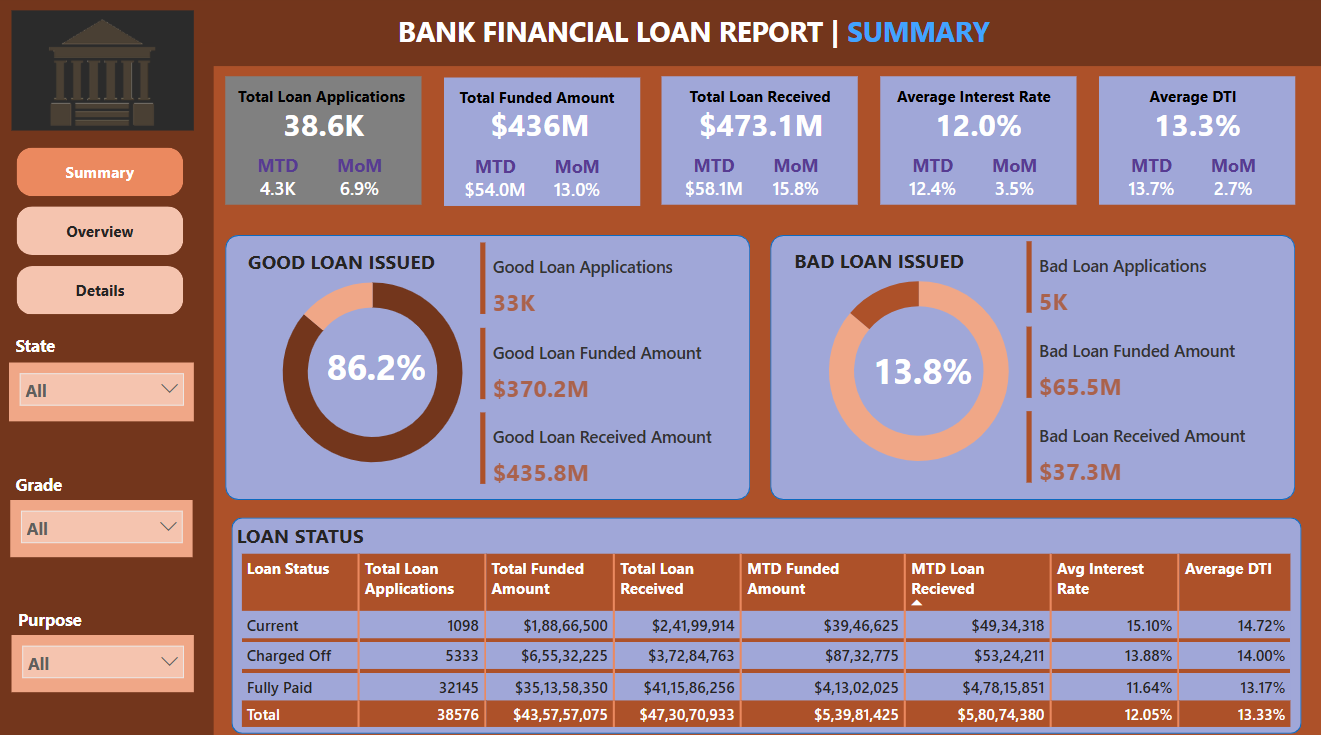

The dashboard page shown, as its layout file describes it:
{"tool":"powerbi","page":{"name":"Summary","canvas":[1280,720],"ordinal":0},"visuals":[{"type":"shape","box":[0,0,1280.3,68.6],"z":0},{"type":"shape","box":[218.4,78.4,189.4,124.3],"z":0,"group":"g1"},{"type":"shape","box":[640.1,78.4,189.4,124.3],"z":0,"group":"g3"},{"type":"shape","box":[850.9,78.4,189.4,124.3],"z":0,"group":"g4"},{"type":"shape","box":[1061.7,78.4,189.4,124.3],"z":0,"group":"g5"},{"type":"shape","box":[429.2,79.6,189.4,124.3],"z":0,"group":"g2"},{"type":"shape","box":[0,45.8,207.5,674.4],"z":1000},{"type":"card","fields":{"Values":["financial_loan.Total Loan Received"]},"box":[666.5,92.4,139.9,65.1],"z":1000,"group":"g3"},{"type":"card","fields":{"Values":["financial_loan.Total Loan Applications"]},"box":[263,96.5,101.3,57.9],"z":1000,"group":"g1"},{"type":"card","fields":{"Values":["financial_loan.Avg Interest Rate"]},"box":[895.2,96.5,101.3,57.9],"z":1000,"group":"g4"},{"type":"card","fields":{"Values":["financial_loan.Average DTI"]},"box":[1106.3,96.5,101.3,57.9],"z":1000,"group":"g5"},{"type":"card","fields":{"Values":["financial_loan.Total Funded Amount"]},"box":[459.1,96.9,125.5,57.9],"z":1000,"group":"g2"},{"type":"textbox","box":[207.5,82,211.1,43.4],"z":2000,"group":"g1"},{"type":"textbox","box":[628.6,82,211.1,43.4],"z":2000,"group":"g3"},{"type":"textbox","box":[839.7,82,211.1,43.4],"z":2000,"group":"g4"},{"type":"textbox","box":[1050.8,82,211.1,43.4],"z":2000,"group":"g5"},{"type":"textbox","box":[417.4,83.2,211.1,43.4],"z":2000,"group":"g2"},{"type":"card","fields":{"Values":["financial_loan.Bad Loan Percentage"]},"box":[828.8,330.6,125.5,57.9],"z":2000},{"type":"textbox","box":[380.1,12.3,591.4,65.9],"z":3000},{"type":"card","title":"MTD ","fields":{"Values":["financial_loan.MTD Loan Applications"]},"box":[224.4,152,89.3,50.7],"z":3000,"group":"g1"},{"type":"card","title":"MTD ","fields":{"Values":["financial_loan.MTD Loan Recieved"]},"box":[645.5,152,89.3,50.7],"z":3000,"group":"g3"},{"type":"card","title":"MTD ","fields":{"Values":["financial_loan.MTD Avg Interest Rate"]},"box":[856.6,152,89.3,50.7],"z":3000,"group":"g4"},{"type":"card","title":"MTD ","fields":{"Values":["financial_loan.MTD Avg DTI"]},"box":[1067.7,152,89.3,50.7],"z":3000,"group":"g5"},{"type":"card","title":"MTD ","fields":{"Values":["financial_loan.MTD Funded Amount"]},"box":[434.3,153.2,89.3,50.7],"z":3000,"group":"g2"},{"type":"group","id":"g1","title":"Group 1","box":[207.5,78.4,211.1,124.3],"z":4000},{"type":"card","title":"MoM ","fields":{"Values":["financial_loan.MoM Loan Applications"]},"box":[304,152,88.1,50.7],"z":4000,"group":"g1"},{"type":"card","title":"MoM ","fields":{"Values":["financial_loan.MoM Loan Received"]},"box":[725.1,152,88.1,50.7],"z":4000,"group":"g3"},{"type":"card","title":"MoM ","fields":{"Values":["financial_loan.MoM Avg Int rate"]},"box":[936.2,152,88.1,50.7],"z":4000,"group":"g4"},{"type":"card","title":"MoM ","fields":{"Values":["financial_loan.MoM Avg DTI"]},"box":[1147.3,152,88.1,50.7],"z":4000,"group":"g5"},{"type":"card","title":"MoM ","fields":{"Values":["financial_loan.MoM Funded Amount"]},"box":[513.9,153.2,88.1,50.7],"z":4000,"group":"g2"},{"type":"group","id":"g2","title":"Group 1","box":[417.4,79.6,211.1,124.3],"z":5000},{"type":"group","id":"g3","title":"Group 1","box":[628.6,78.4,211.1,124.3],"z":6000},{"type":"shape","box":[744.4,231.6,506.7,255.8],"z":7000},{"type":"shape","box":[218.4,231.6,506.7,255.8],"z":8000},{"type":"card","fields":{"Values":["financial_loan.Good Loan Percentage"]},"box":[294.4,326.9,139.9,65.1],"z":9000},{"type":"group","id":"g4","title":"Group 1","box":[839.7,78.4,211.1,124.3],"z":10000},{"type":"group","id":"g5","title":"Group 1","box":[1050.8,78.4,211.1,124.3],"z":11000},{"type":"donutChart","fields":{"Category":["financial_loan.Good vs Bad Loan"],"Y":["financial_loan.Total Loan Applications"]},"box":[224.4,250.9,272.7,226.8],"z":12000},{"type":"textbox","box":[235.3,240.1,199.1,37.4],"z":13000},{"type":"cardVisual","fields":{"Data":["financial_loan.Good Loan Applications","financial_loan.Good Loan Funded Amount","financial_loan.Good Loan Received Amount"]},"box":[459.7,234,246.1,243.7],"z":14000},{"type":"donutChart","fields":{"Category":["financial_loan.Good vs Bad Loan"],"Y":["financial_loan.Total Loan Applications"]},"box":[751.7,250.3,272.7,226.8],"z":15000},{"type":"textbox","box":[762.6,239.5,199.1,37.4],"z":16000},{"type":"cardVisual","fields":{"Data":["financial_loan.Bad Loan Applications","financial_loan.Bad Loan Funded Amount","financial_loan.Bad Loan Received Amount"]},"box":[987,233.4,246.1,243.7],"z":17000},{"type":"card","fields":{"Values":["financial_loan.Bad Loan Percentage"]},"box":[821.6,330.6,139.9,65.1],"z":18000},{"type":"shape","box":[224.4,504.3,1032.7,208.7],"z":19000},{"type":"tableEx","fields":{"Values":["financial_loan.loan_status","financial_loan.Total Loan Applications","financial_loan.Total Funded Amount","financial_loan.Total Loan Received","financial_loan.MTD Funded Amount","financial_loan.MTD Loan Recieved","financial_loan.Avg Interest Rate","financial_loan.Average DTI"]},"box":[228,534.5,1033.9,185.8],"z":20000},{"type":"textbox","box":[224.4,504.3,141.2,45.8],"z":21000},{"type":"slicer","fields":{"Values":["financial_loan.address_state"]},"box":[9.7,354.7,178.6,56.7],"z":22000},{"type":"textbox","box":[10.9,322.1,112.2,32.6],"z":23000},{"type":"slicer","fields":{"Values":["financial_loan.grade"]},"box":[10.9,487.4,176.1,55.5],"z":24000},{"type":"textbox","box":[10.9,456,86.9,31.4],"z":25000},{"type":"slicer","fields":{"Values":["financial_loan.purpose"]},"box":[12.1,617.7,176.1,55.5],"z":26000},{"type":"textbox","box":[13.3,586.3,86.9,31.4],"z":27000},{"type":"image","box":[7.2,3.6,185.8,138.7],"z":27001},{"type":"pageNavigator","box":[16.9,147,161.7,162.9],"z":27002}]}

Visuals, with their boxes in screenshot pixels (x1, y1, x2, y2), scaled from the page's 1280x720 canvas onto the 1321x735 screenshot:
shape: region(0, 0, 1320, 70)
shape: region(225, 80, 421, 207)
shape: region(661, 80, 856, 207)
shape: region(878, 80, 1074, 207)
shape: region(1096, 80, 1291, 207)
shape: region(443, 81, 638, 208)
shape: region(0, 47, 214, 734)
card - financial_loan.Total Loan Received: region(688, 94, 832, 161)
card - financial_loan.Total Loan Applications: region(271, 99, 376, 158)
card - financial_loan.Avg Interest Rate: region(924, 99, 1028, 158)
card - financial_loan.Average DTI: region(1142, 99, 1246, 158)
card - financial_loan.Total Funded Amount: region(474, 99, 603, 158)
textbox: region(214, 84, 432, 128)
textbox: region(649, 84, 867, 128)
textbox: region(867, 84, 1084, 128)
textbox: region(1084, 84, 1302, 128)
textbox: region(431, 85, 649, 129)
card - financial_loan.Bad Loan Percentage: region(855, 337, 985, 397)
textbox: region(392, 13, 1003, 80)
"MTD " card: region(232, 155, 324, 207)
"MTD " card: region(666, 155, 758, 207)
"MTD " card: region(884, 155, 976, 207)
"MTD " card: region(1102, 155, 1194, 207)
"MTD " card: region(448, 156, 540, 208)
"Group 1" group: region(214, 80, 432, 207)
"MoM " card: region(314, 155, 405, 207)
"MoM " card: region(748, 155, 839, 207)
"MoM " card: region(966, 155, 1057, 207)
"MoM " card: region(1184, 155, 1275, 207)
"MoM " card: region(530, 156, 621, 208)
"Group 1" group: region(431, 81, 649, 208)
"Group 1" group: region(649, 80, 867, 207)
shape: region(768, 236, 1291, 498)
shape: region(225, 236, 748, 498)
card - financial_loan.Good Loan Percentage: region(304, 334, 448, 400)
"Group 1" group: region(867, 80, 1084, 207)
"Group 1" group: region(1084, 80, 1302, 207)
donutChart - financial_loan.Good vs Bad Loan x financial_loan.Total Loan Applications: region(232, 256, 513, 488)
textbox: region(243, 245, 448, 283)
cardVisual - financial_loan.Good Loan Applications x financial_loan.Good Loan Funded Amount: region(474, 239, 728, 488)
donutChart - financial_loan.Good vs Bad Loan x financial_loan.Total Loan Applications: region(776, 256, 1057, 487)
textbox: region(787, 244, 993, 283)
cardVisual - financial_loan.Bad Loan Applications x financial_loan.Bad Loan Funded Amount: region(1019, 238, 1273, 487)
card - financial_loan.Bad Loan Percentage: region(848, 337, 992, 404)
shape: region(232, 515, 1297, 728)
tableEx - financial_loan.loan_status x financial_loan.Total Loan Applications: region(235, 546, 1302, 734)
textbox: region(232, 515, 377, 562)
slicer - financial_loan.address_state: region(10, 362, 194, 420)
textbox: region(11, 329, 127, 362)
slicer - financial_loan.grade: region(11, 498, 193, 554)
textbox: region(11, 465, 101, 498)
slicer - financial_loan.purpose: region(12, 631, 194, 687)
textbox: region(14, 599, 103, 631)
image: region(7, 4, 199, 145)
pageNavigator: region(17, 150, 184, 316)
